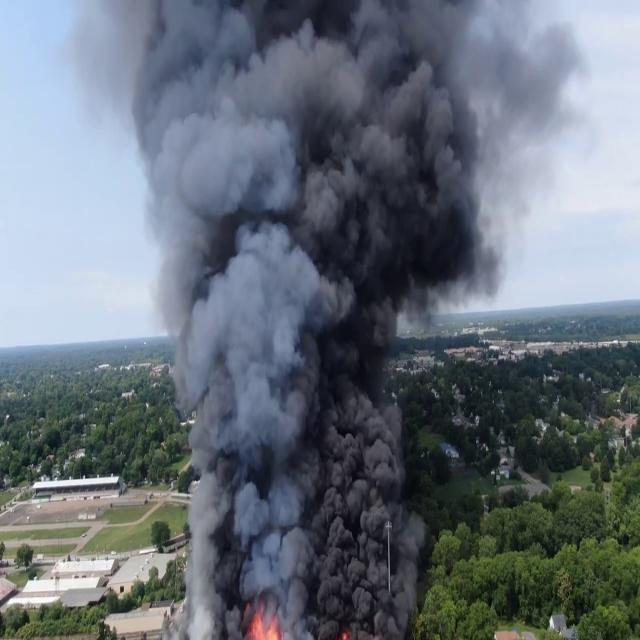Smoke: (98, 6, 560, 636)
